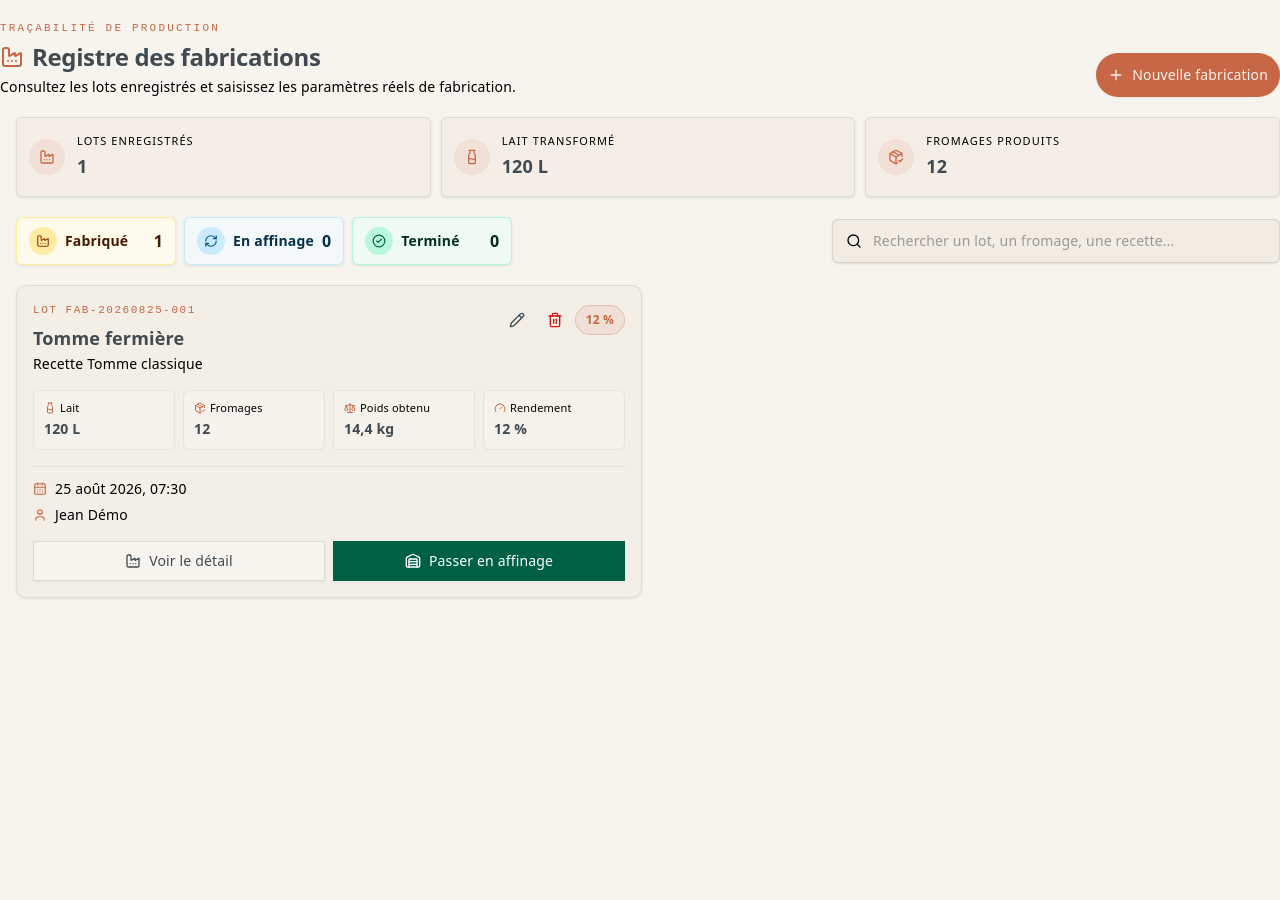
Test: registre des fabrications › bloque l'étape lait lorsque les valeurs obligatoires sont absentes
What coordinates should you click on to do the following:
click the button "Nouvelle fabrication"
I would click on:
 (1188, 74)
Its box is [1096, 52, 1279, 96].
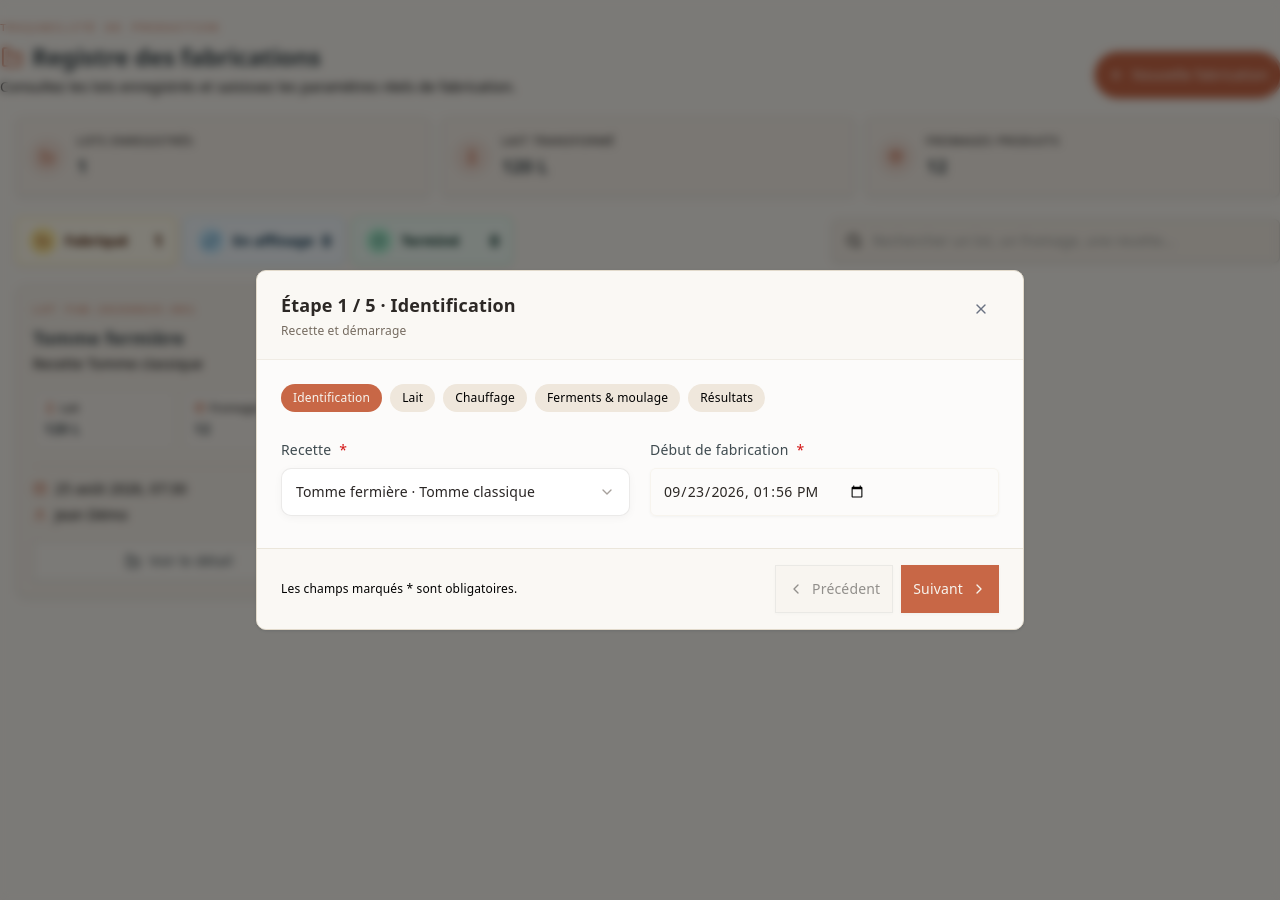
What coordinates should you click on to do the following:
click the dropdown named "Recette"
I would click on:
 (456, 492)
Its box is [281, 468, 630, 516].
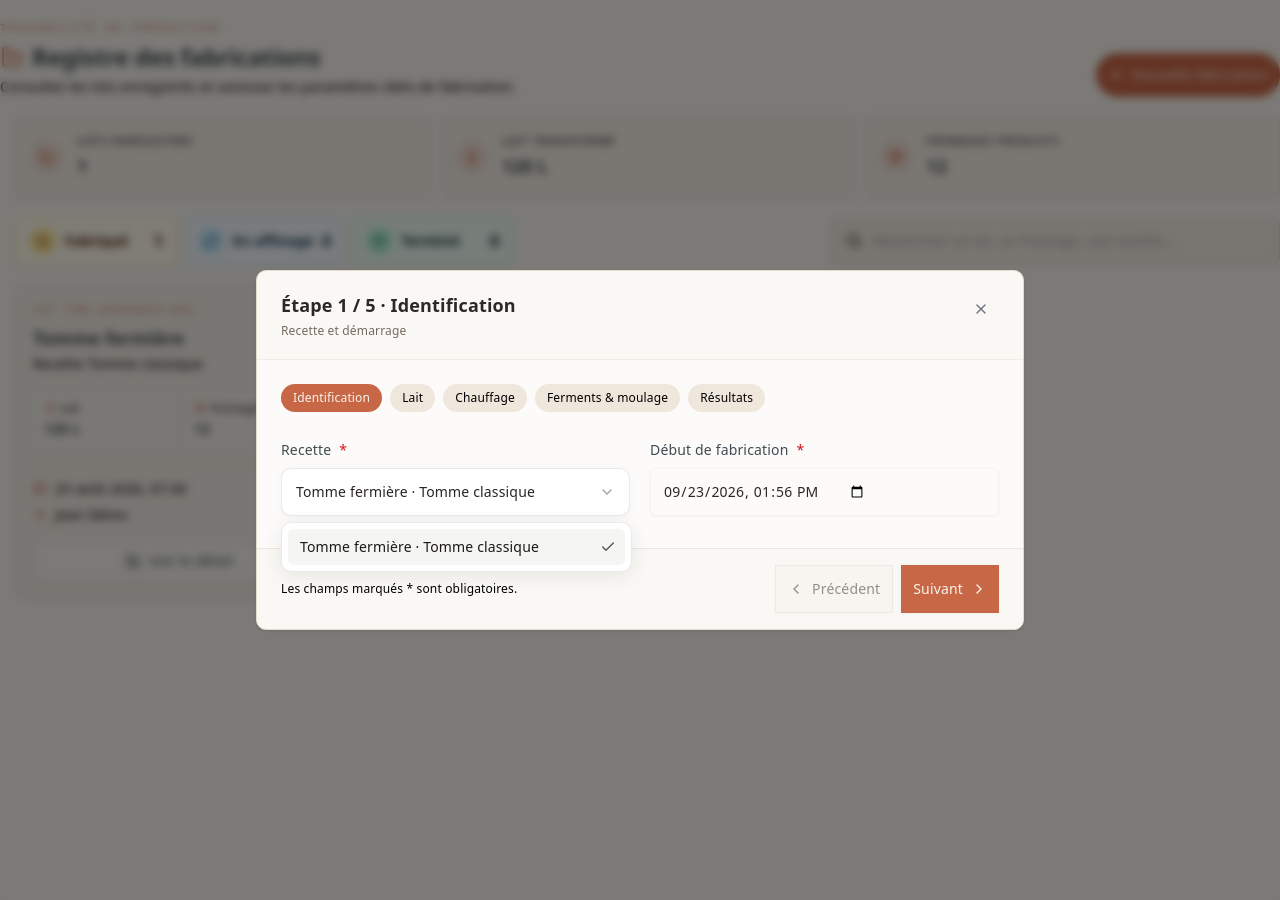
What coordinates should you click on to do the following:
click the option "Tomme fermière · Tomme classique"
I would click on:
 (456, 547)
Its box is [288, 529, 625, 565].
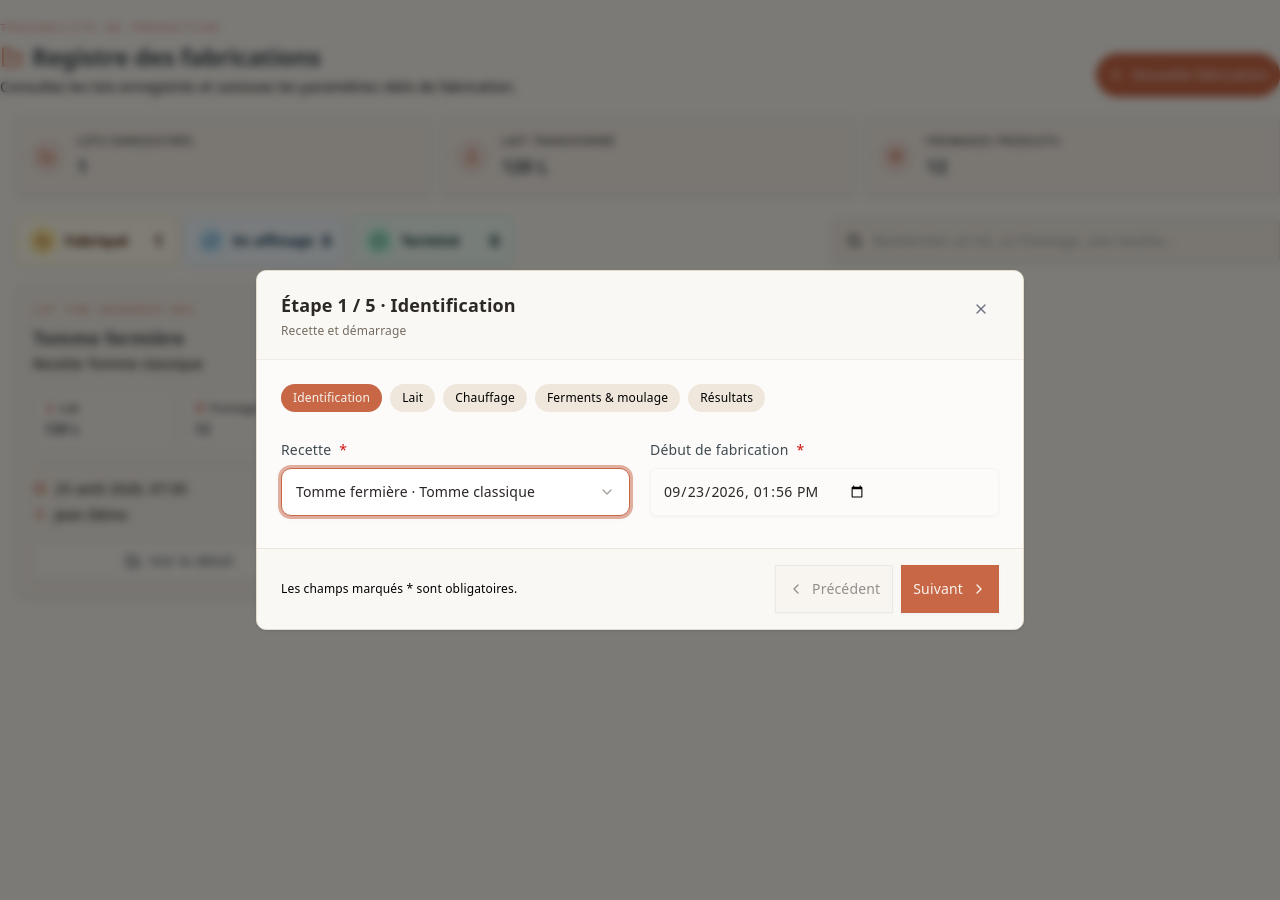
What coordinates should you click on to do the following:
click the button "Suivant"
I would click on:
 (950, 589)
Its box is [901, 565, 999, 613].
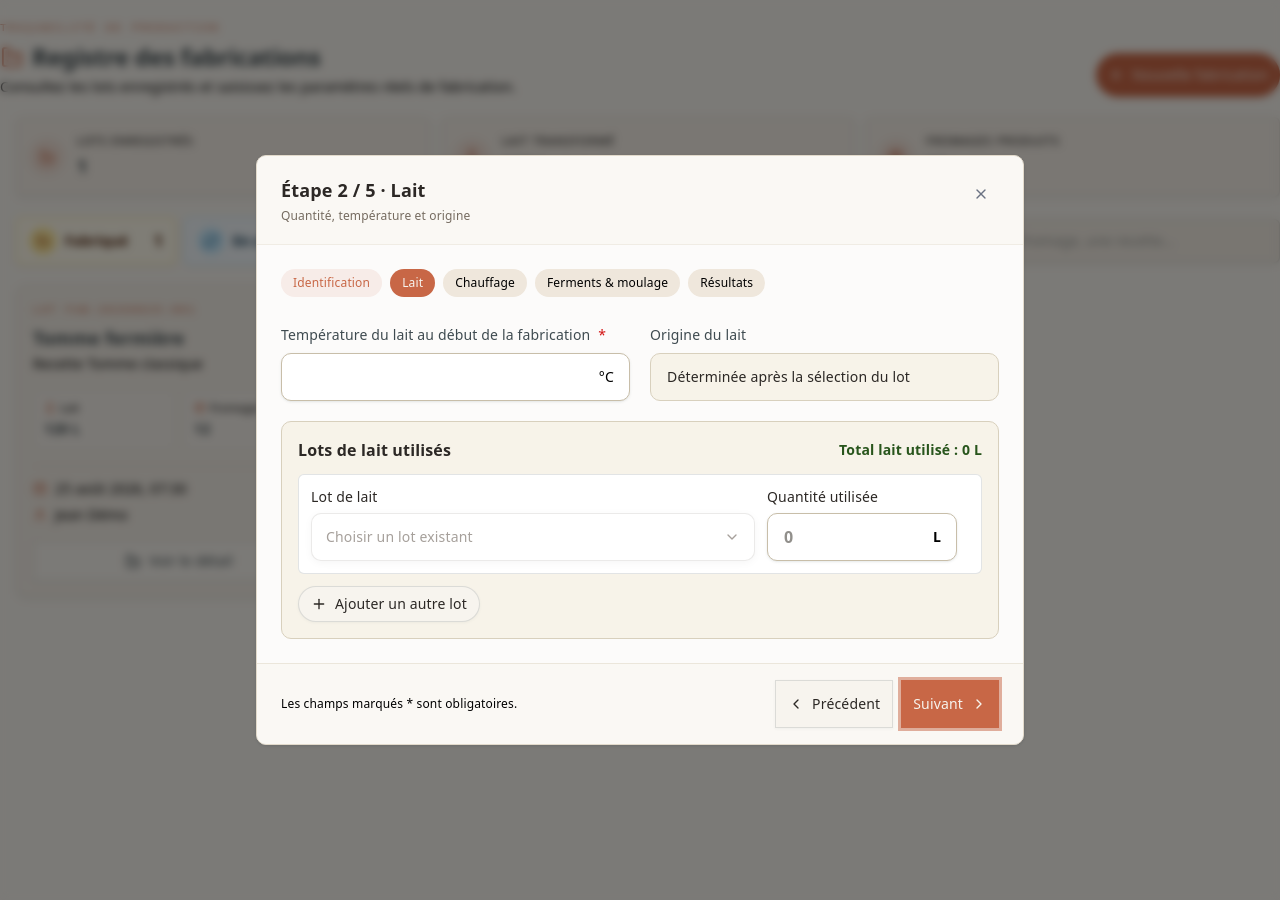
Expected: the text "Quantité, température et origine" is shown, [281, 208, 470, 224]
What coordinates should you click on to do the following:
click the button "Suivant"
I would click on:
 (950, 704)
Its box is [901, 680, 999, 728].
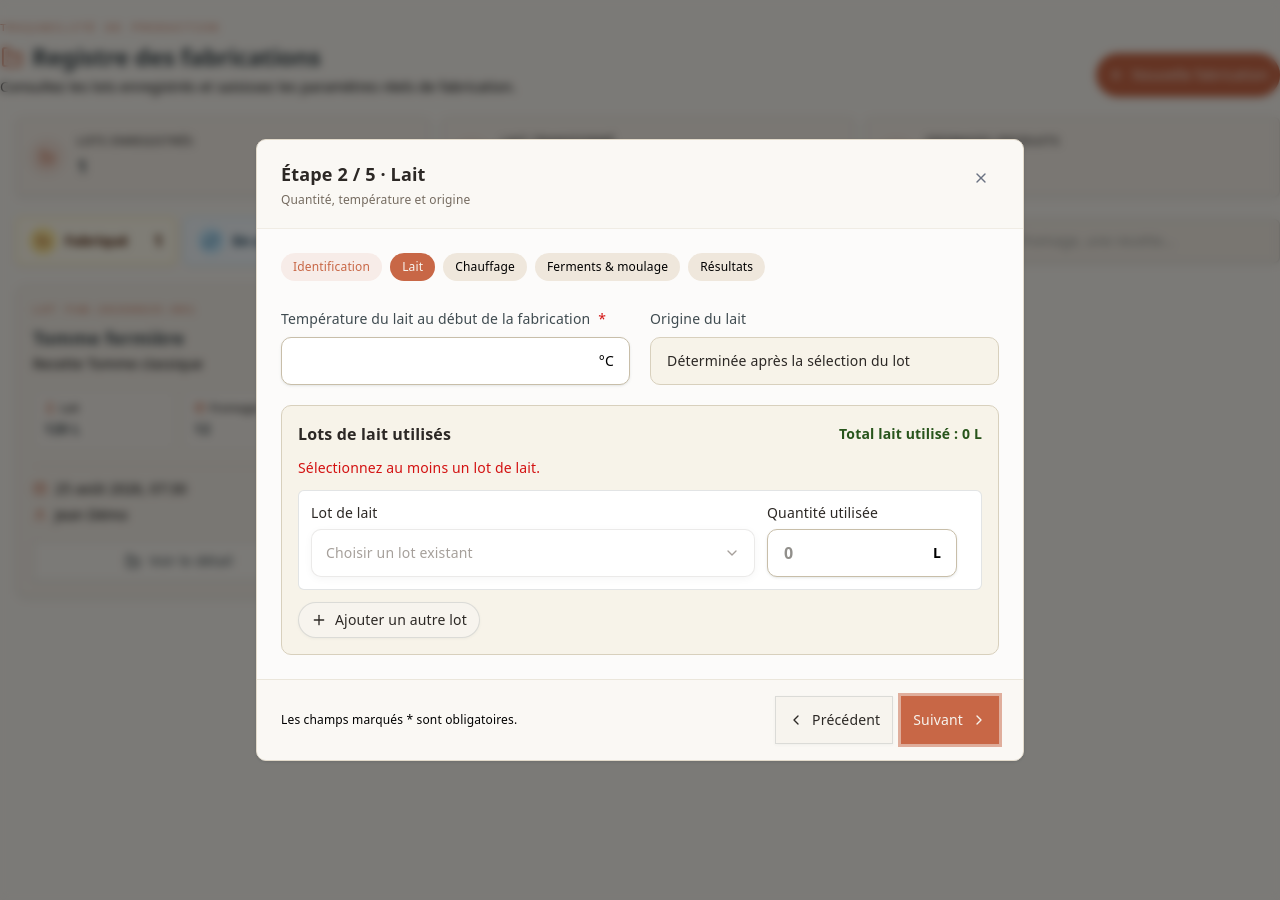
Expected: the text "Quantité, température et origine" is shown, [281, 192, 470, 208]
Expected: the text "Sélectionnez au moins un lot de lait." is shown, [298, 458, 540, 477]
